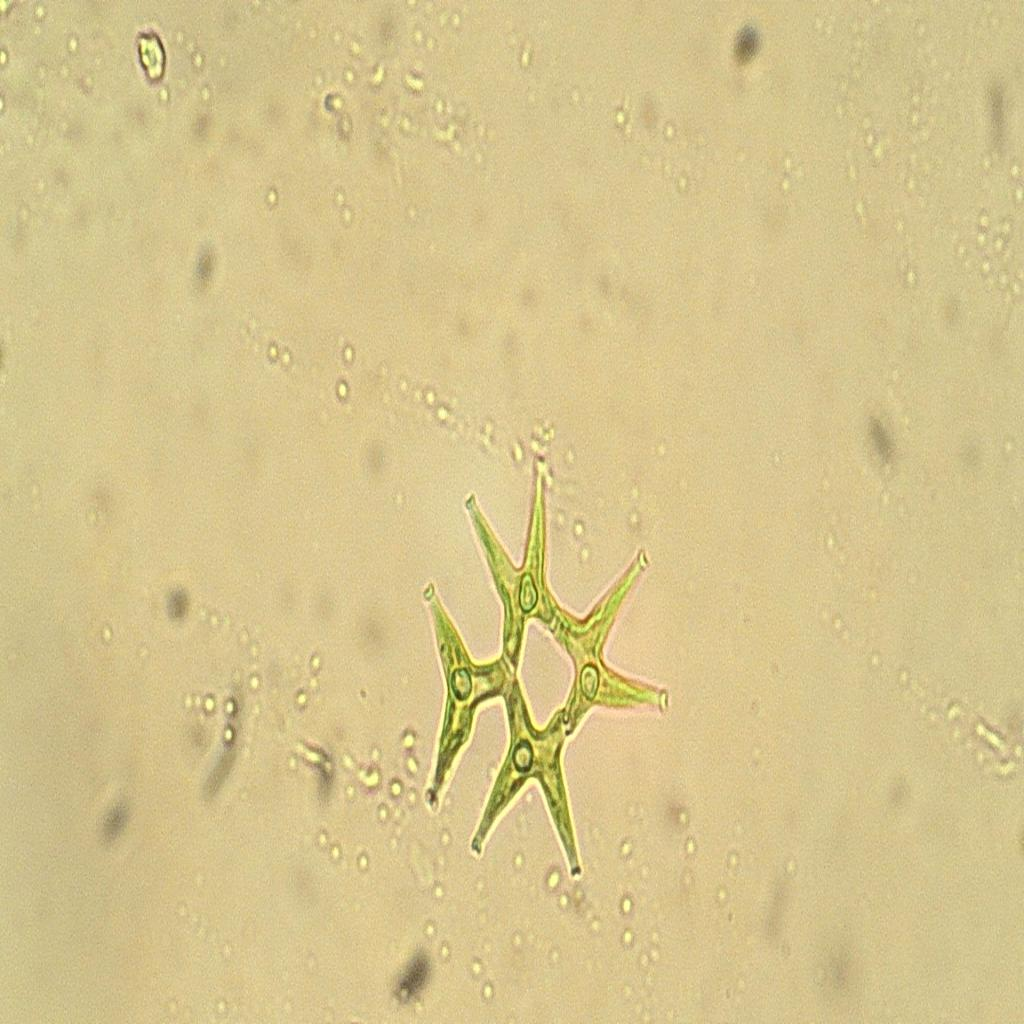Pediastrum_75FI: (384, 436, 694, 902)
